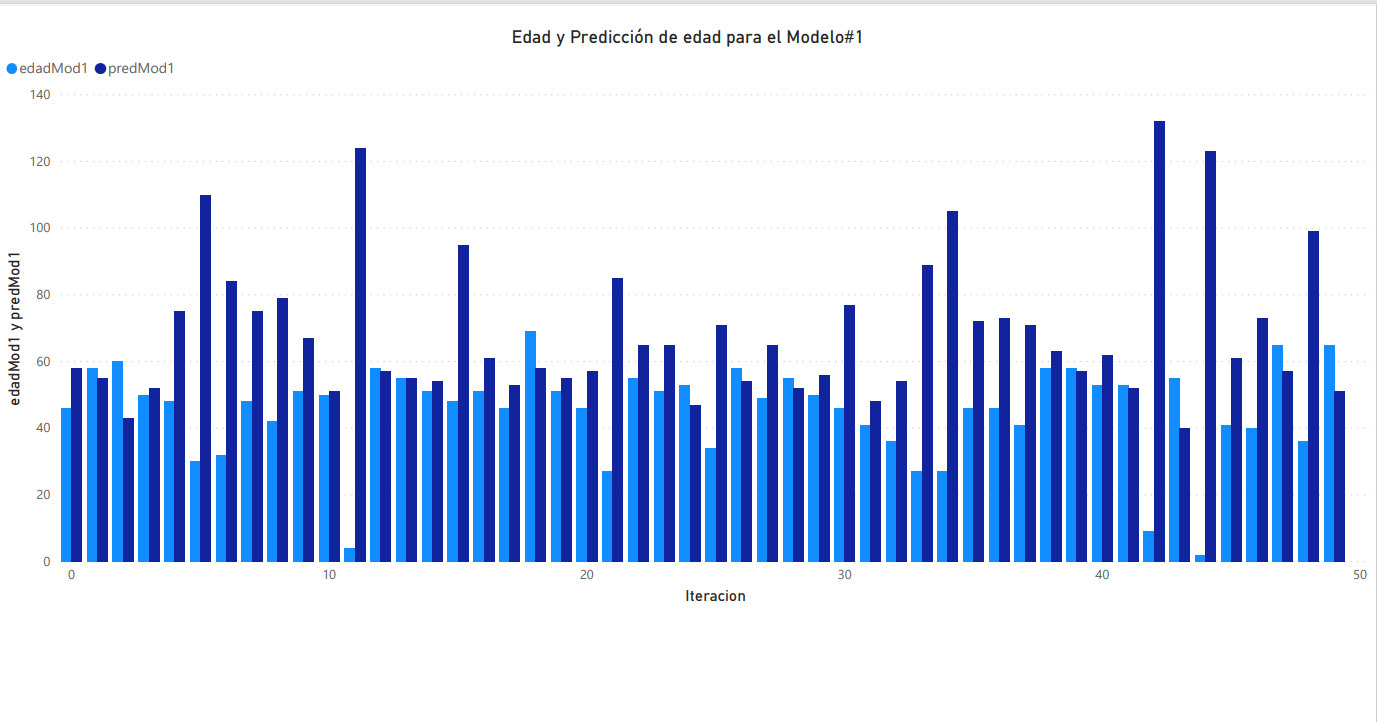

The page's visual inventory and layout, read from the dashboard file:
{"tool":"powerbi","page":{"name":"BarraModel1Full","canvas":[1280,720],"ordinal":0},"visuals":[{"type":"clusteredColumnChart","title":"Edad y Predicción de edad para el Modelo#1","fields":{"Category":["dataModelos (2).Iteracion"],"Y":["Sum(dataModelos (2).edadMod1)","Sum(dataModelos (2).predMod1)"]},"box":[0,0,1280,543.1],"z":0},{"type":"textbox","box":[0,543.1,1280,129.8],"z":1000}]}

Visuals, with their boxes on the page's 1280x720 design canvas (x1, y1, x2, y2). These are canvas units, not pixel positions in the 1377x722 screenshot, which may show the page scaled, cropped or inside an application window:
"Edad y Predicción de edad para el Modelo#1" clusteredColumnChart: [x1=0, y1=0, x2=1280, y2=543]
textbox: [x1=0, y1=543, x2=1280, y2=673]
